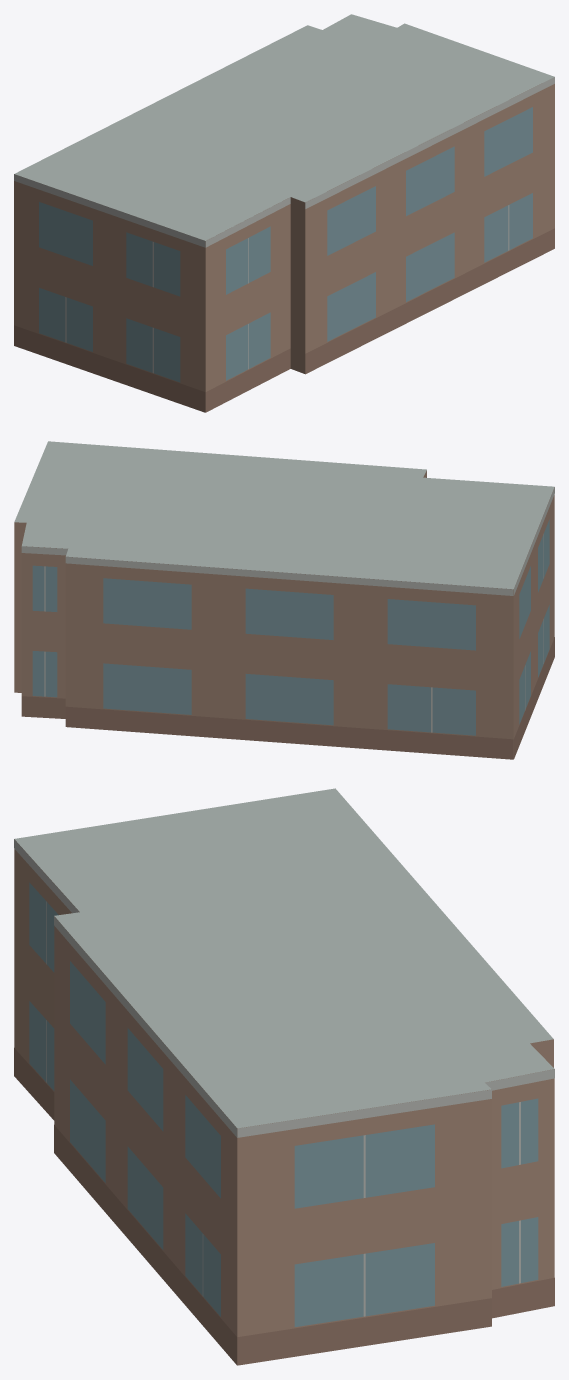
The model's file is survey-upis-32586990.glb.
The picture shows the model from 3 angles, top to bottom: view 1: azimuth 30°, elevation 25°; view 2: azimuth 150°, elevation 25°; view 3: azimuth 270°, elevation 25°; orthographic projection. The views are drawn at different scales.
Visible parts, largest first — view 1: survey-upis-32586990.tmp; view 2: survey-upis-32586990.tmp; view 3: survey-upis-32586990.tmp.
Boxes of the visible parts, x1=… form: survey-upis-32586990.tmp: x1=14, y1=14, x2=554, y2=412; survey-upis-32586990.tmp: x1=14, y1=441, x2=554, y2=759; survey-upis-32586990.tmp: x1=14, y1=788, x2=554, y2=1365.
Size of the model in its own units: 18.78 by 6.1 by 12.62.
